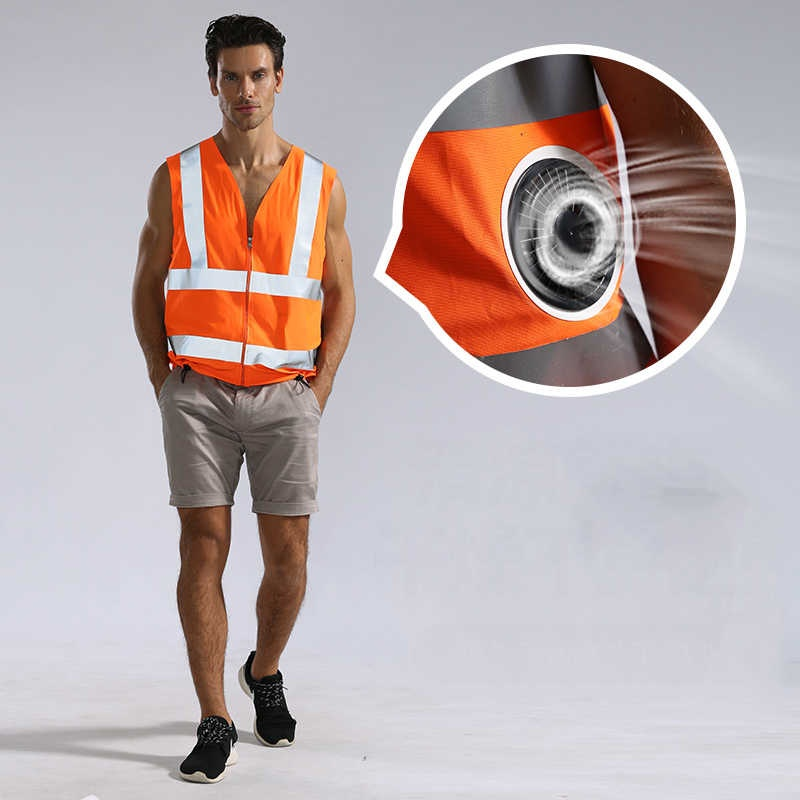person with partial safety: (129, 19, 350, 785)
safety vest: (164, 142, 332, 391)
